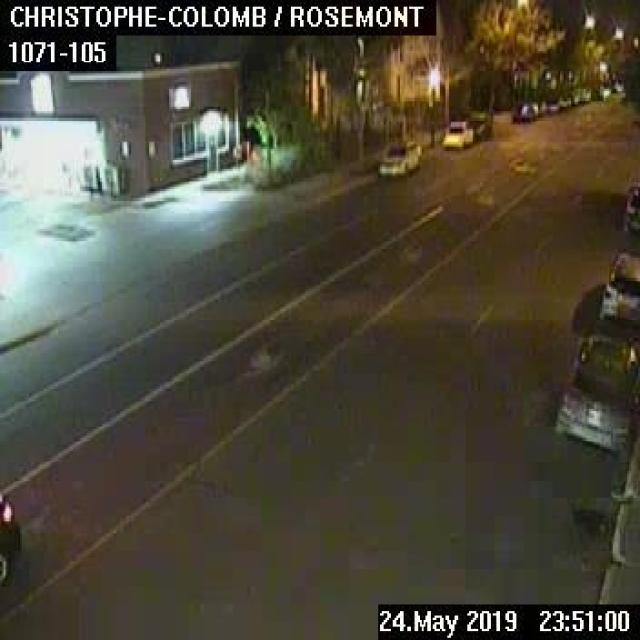vehicle: (554, 334, 638, 449), (599, 252, 638, 322), (0, 487, 22, 589), (378, 140, 420, 175), (618, 185, 638, 231), (442, 120, 471, 146), (466, 110, 491, 140), (511, 100, 536, 121)
